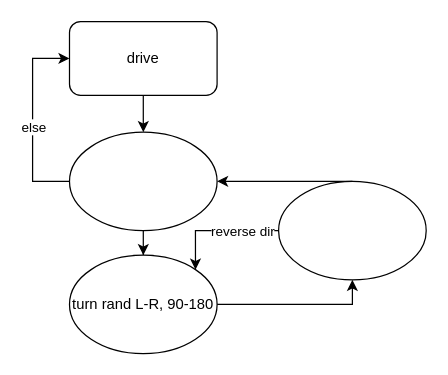
Some shapes in this 448 by 375 pixel diagram are drawn without their labels. Here are the shapes that lost their labels. From the top down, the centre of each, then its label:
(142,181): if dist < 1000
(351,230): if last dist <= dist
